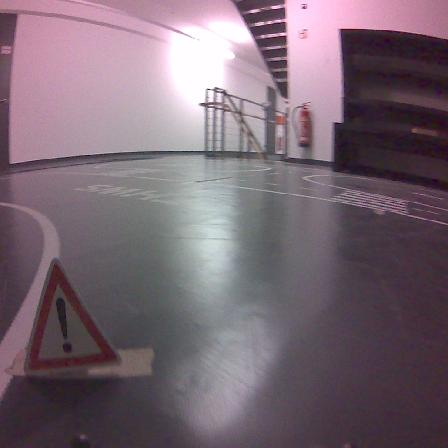ATTENTION: (25, 259, 119, 373)
